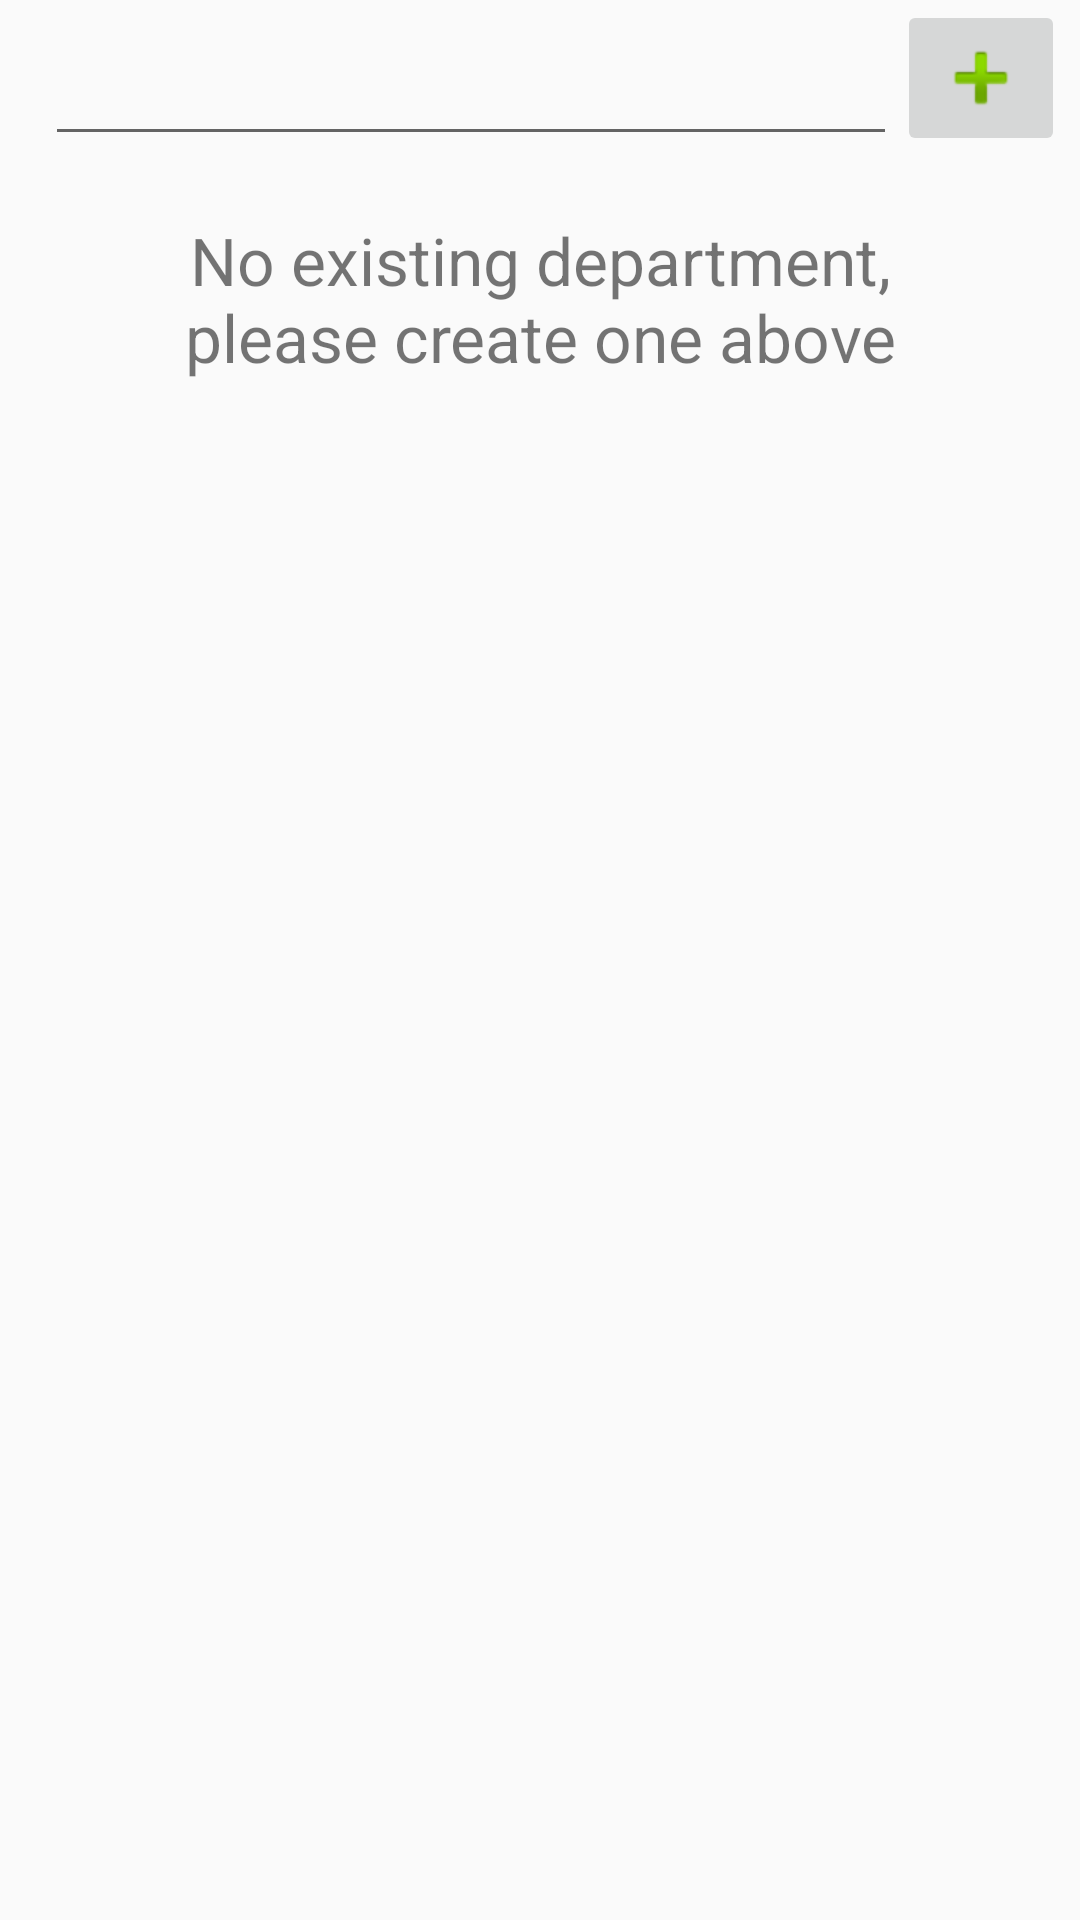

Icon bounding boxes for this 1080px x 1920px phone screenshot, format (x1, y1, x2, y2):
add: (909, 18, 1053, 138)
